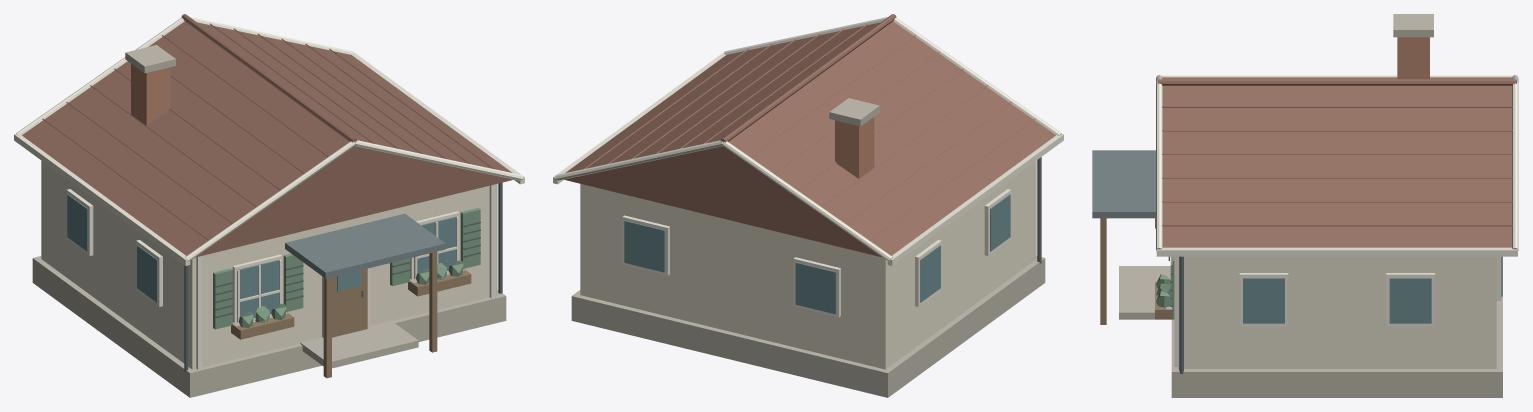
The picture shows the model from 3 angles, left to right: view 1: azimuth 30°, elevation 25°; view 2: azimuth 150°, elevation 25°; view 3: azimuth 270°, elevation 25°; orthographic projection. The views are drawn at different scales.
Bounding box in the file's own units: 9.33 × 6.29 × 9.64.
